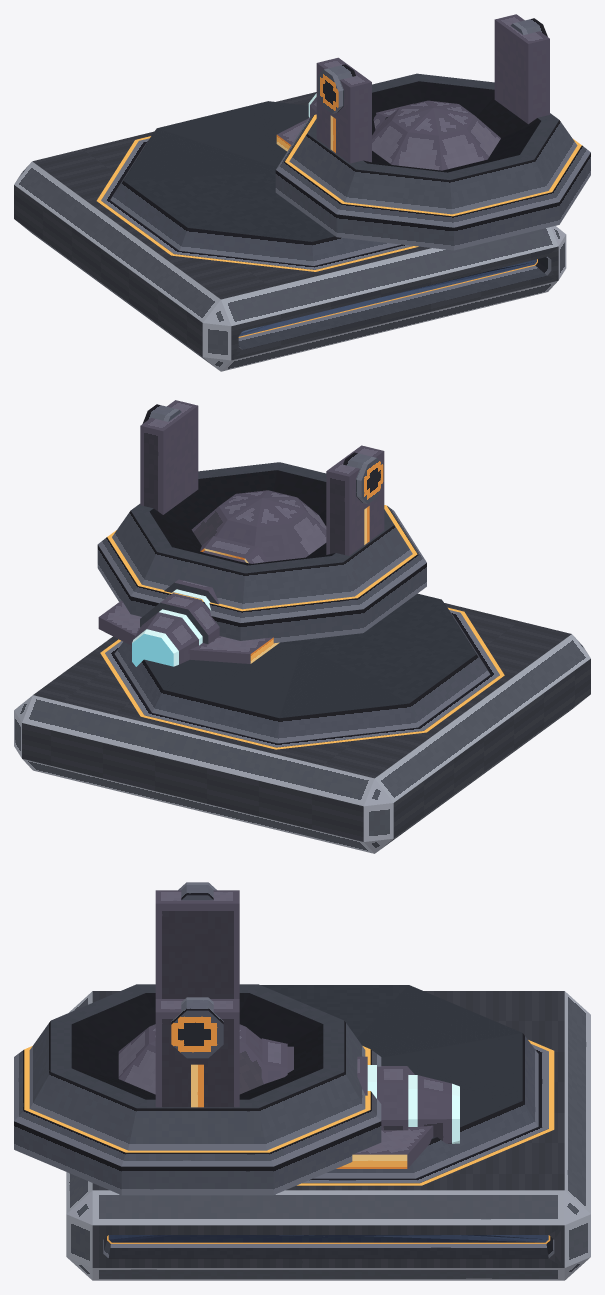
File: marlit_laser.glb
3 renders of one model, top to bottom at view 1: azimuth 30°, elevation 25°; view 2: azimuth 150°, elevation 25°; view 3: azimuth 270°, elevation 25°, orthographic. The views are drawn at different scales.
Parts seen in each view (by area): view 1: marlit_laser_base, marlit_laser_yaw, marlit_laser_head; view 2: marlit_laser_base, marlit_laser_yaw, marlit_laser_head; view 3: marlit_laser_base, marlit_laser_yaw, marlit_laser_head.
Part boxes in pixels (bbox=[...]): marlit_laser_base: bbox=[14, 92, 566, 371]; marlit_laser_yaw: bbox=[275, 14, 590, 250]; marlit_laser_head: bbox=[276, 93, 500, 170]; marlit_laser_base: bbox=[14, 593, 590, 853]; marlit_laser_yaw: bbox=[97, 400, 426, 643]; marlit_laser_head: bbox=[98, 490, 326, 666]; marlit_laser_base: bbox=[66, 985, 590, 1280]; marlit_laser_yaw: bbox=[14, 882, 381, 1195]; marlit_laser_head: bbox=[118, 1024, 459, 1168].
Size of the model in its own units: 2.2 by 1.22 by 2.2.
Materials: 1 (1 with a texture image).
